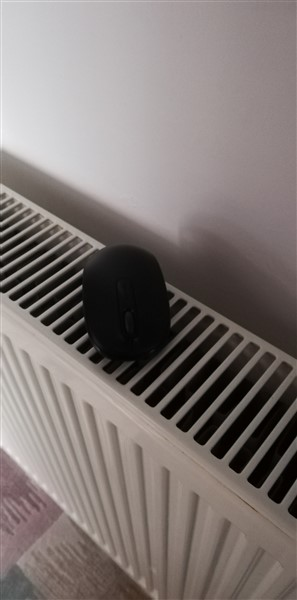mouse: (73, 241, 188, 366)
